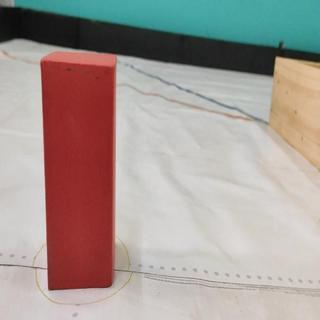redbox: (41, 49, 117, 291)
